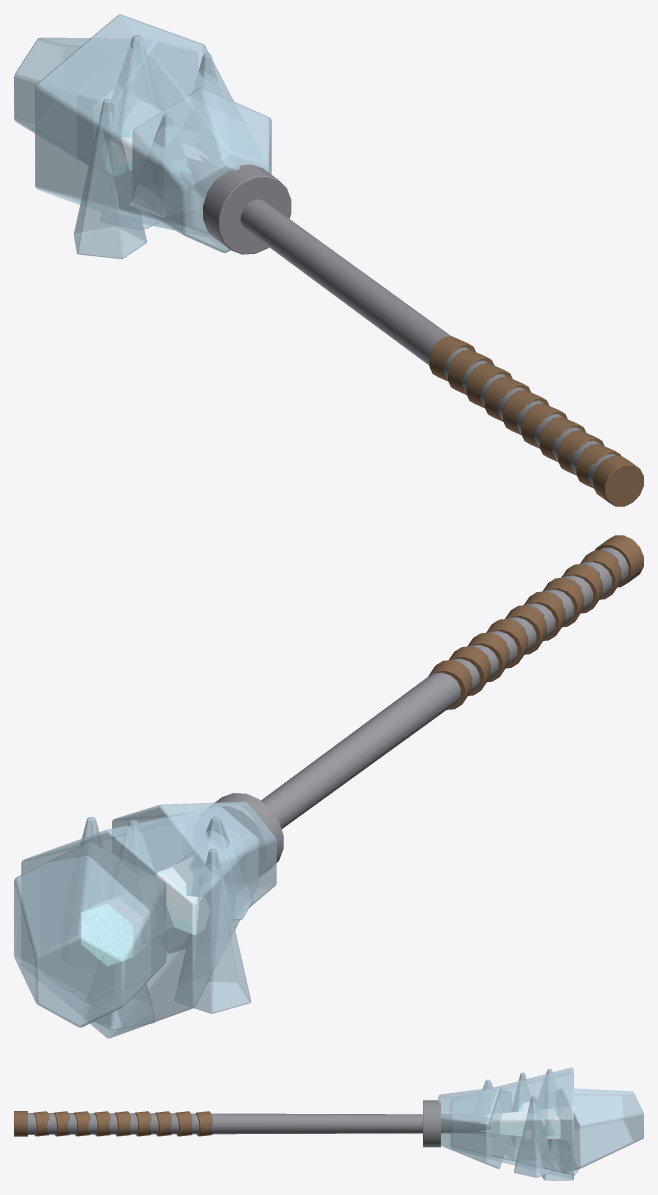
Rendered from mazo_tempano.glb.
3 renders of one model, top to bottom at view 1: azimuth 30°, elevation 25°; view 2: azimuth 150°, elevation 25°; view 3: azimuth 270°, elevation 25°, orthographic. The views are drawn at different scales.
Parts seen in each view (by area): view 1: mazo_tempano; view 2: mazo_tempano; view 3: mazo_tempano.
Part boxes in pixels (x1,y1,x2,y2): mazo_tempano: (14, 14, 643, 506); mazo_tempano: (14, 535, 643, 1038); mazo_tempano: (14, 1067, 643, 1180).
Size of the model in its own units: 0.2114 by 0.2327 by 1.18.
